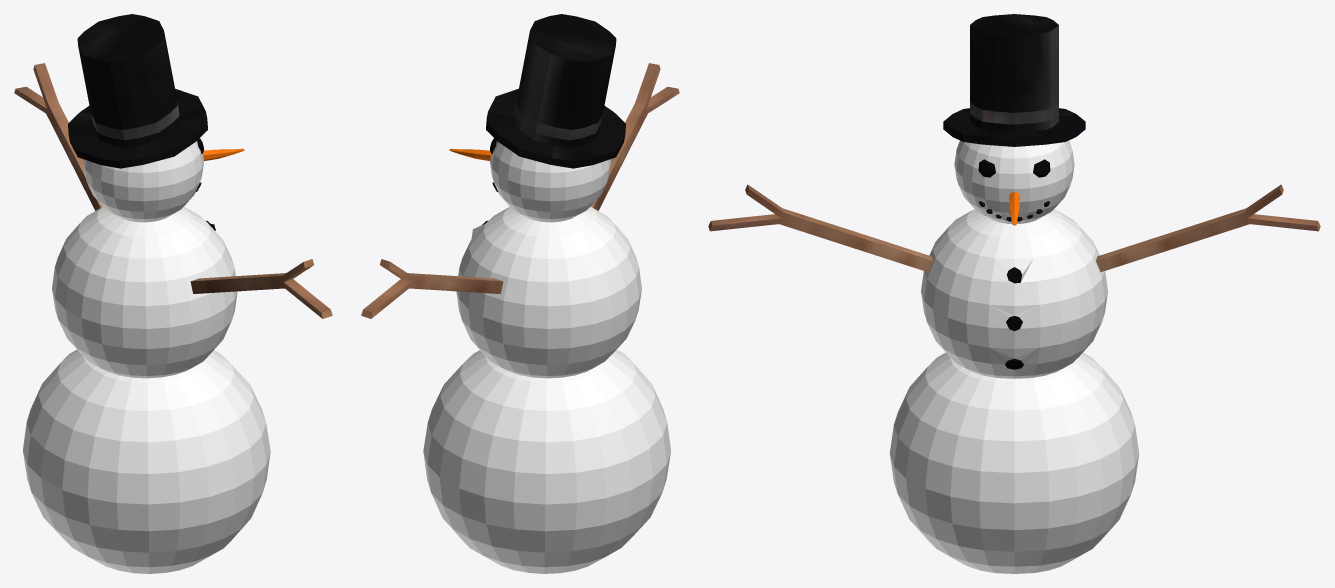
Rendered from SNOWMAN HAT.fbx.
3 renders of one model, left to right at view 1: azimuth 30°, elevation 25°; view 2: azimuth 150°, elevation 25°; view 3: azimuth 270°, elevation 25°, orthographic.
Parts seen in each view (by area): view 1: SNOWMAN_HAT; view 2: SNOWMAN_HAT; view 3: SNOWMAN_HAT.
Boxes of the visible parts, left/top/right/bottom form: SNOWMAN_HAT: left=14, top=14, right=332, bottom=573; SNOWMAN_HAT: left=361, top=14, right=679, bottom=573; SNOWMAN_HAT: left=708, top=14, right=1320, bottom=573.
Bounding box in the file's own units: 11.97 × 29.06 × 30.24.
